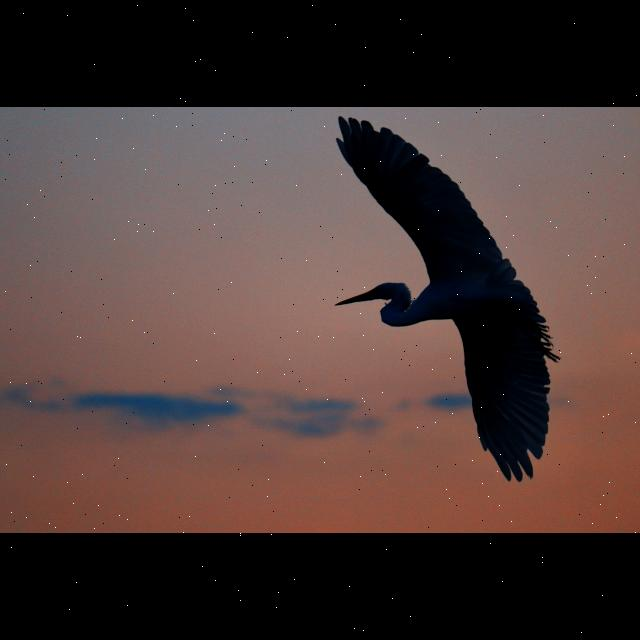egret: (322, 108, 564, 488)
